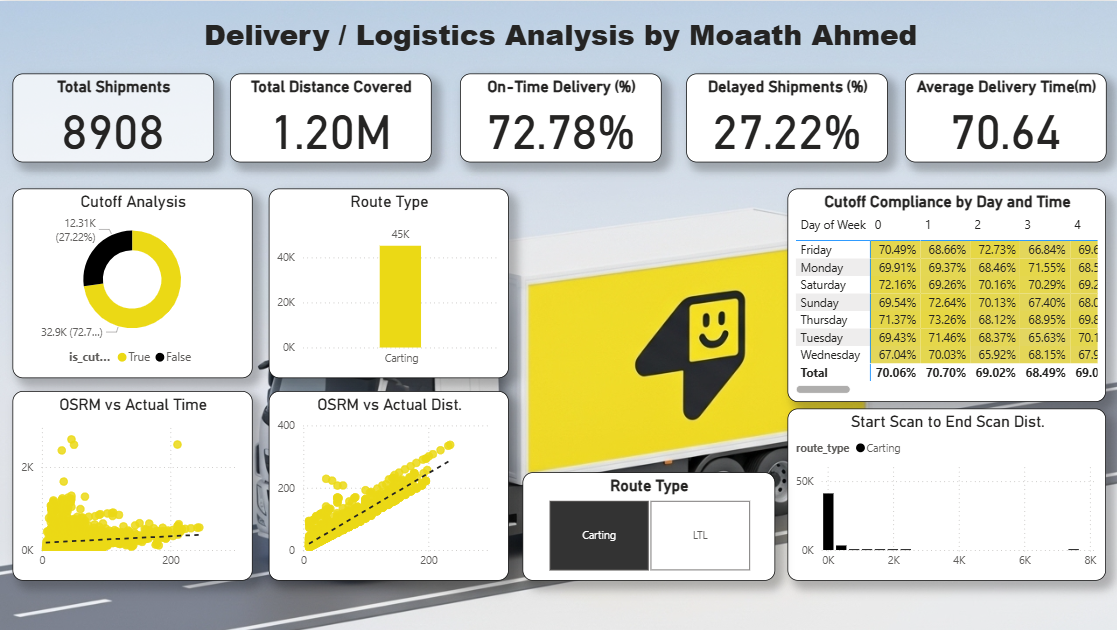

What the dashboard file says about the page in this screenshot:
{"tool":"powerbi","page":{"name":"Page 1","canvas":[1280,720],"ordinal":0},"visuals":[{"type":"card","title":"Total Shipments","fields":{"Values":["Count(delhivery_data.trip_uuid)"]},"box":[14.3,83.3,230,101.4],"z":0},{"type":"card","title":"Average Delivery Time(m)","fields":{"Values":["Avg(delhivery_data.actual_time)"]},"box":[1029.2,83.7,234.6,101.5],"z":1000},{"type":"card","title":"On-Time Delivery (%)","fields":{"Values":["delhivery_data.On-Time Delivery (%)"]},"box":[525.7,83.3,230,101.4],"z":2000},{"type":"card","title":"Delayed Shipments (%)","fields":{"Values":["delhivery_data.Delayed Shipments (%)"]},"box":[776.7,83.7,237.4,101.5],"z":3000},{"type":"card","title":"Total Distance Covered","fields":{"Values":["Sum(delhivery_data.actual_distance_to_destination)"]},"box":[263.5,83.7,234.6,101.5],"z":4000},{"type":"textbox","box":[197.1,10,887.1,68.6],"z":5000},{"type":"donutChart","title":"Cutoff Analysis","fields":{"Category":["delhivery_data.is_cutoff"],"Y":["CountNonNull(delhivery_data.trip_uuid)"]},"box":[14.3,214.3,274.3,217.1],"z":6000},{"type":"pivotTable","title":"Cutoff Compliance by Day and Time","fields":{"Rows":["delhivery_data.Day of Week"],"Columns":["delhivery_data.Hour of Day"],"Values":["delhivery_data.On-Time Delivery (%)"]},"box":[900,214.3,364.3,244.3],"z":7000},{"type":"scatterChart","title":"OSRM vs Actual Time","fields":{"X":["delhivery_data.osrm_time"],"Y":["delhivery_data.actual_time"]},"box":[14.3,445.7,274.3,217.1],"z":8000},{"type":"columnChart","title":"Route Type","fields":{"Category":["delhivery_data.route_type"],"Y":["CountNonNull(delhivery_data.trip_uuid)"]},"box":[307.1,214.3,274.3,217.1],"z":9000},{"type":"columnChart","title":"Start Scan to End Scan Dist.","fields":{"Category":["delhivery_data.start_scan_to_end_scan (bins)"],"Y":["CountNonNull(delhivery_data.trip_uuid)"],"Series":["delhivery_data.route_type"]},"box":[900,465.7,364.3,197.1],"z":10000},{"type":"scatterChart","title":"OSRM vs Actual Dist.","fields":{"X":["delhivery_data.actual_distance_to_destination"],"Y":["delhivery_data.osrm_distance"]},"box":[307.1,445.7,274.3,217.1],"z":11000},{"type":"slicer","title":"Route Type","fields":{"Values":["delhivery_data.route_type"]},"box":[597.1,538.6,288.6,124.3],"z":12000}]}

Visuals, with their boxes in screenshot pixels (x1, y1, x2, y2), scaled from the page's 1280x720 canvas onto the 1117x630 screenshot:
"Total Shipments" card: locate(12, 73, 213, 162)
"Average Delivery Time(m)" card: locate(898, 73, 1103, 162)
"On-Time Delivery (%)" card: locate(459, 73, 659, 162)
"Delayed Shipments (%)" card: locate(678, 73, 885, 162)
"Total Distance Covered" card: locate(230, 73, 435, 162)
textbox: locate(172, 9, 946, 69)
"Cutoff Analysis" donutChart: locate(12, 188, 252, 377)
"Cutoff Compliance by Day and Time" pivotTable: locate(785, 188, 1103, 401)
"OSRM vs Actual Time" scatterChart: locate(12, 390, 252, 580)
"Route Type" columnChart: locate(268, 188, 507, 377)
"Start Scan to End Scan Dist." columnChart: locate(785, 407, 1103, 580)
"OSRM vs Actual Dist." scatterChart: locate(268, 390, 507, 580)
"Route Type" slicer: locate(521, 471, 773, 580)
